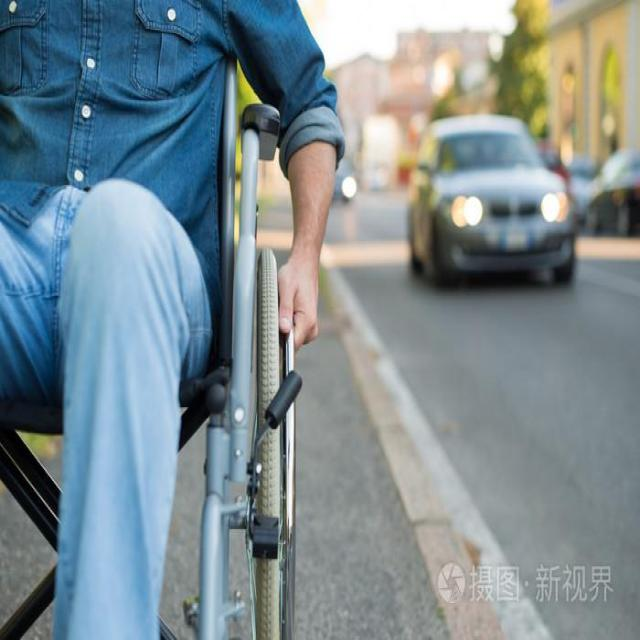wheelchairs: (0, 47, 318, 640)
